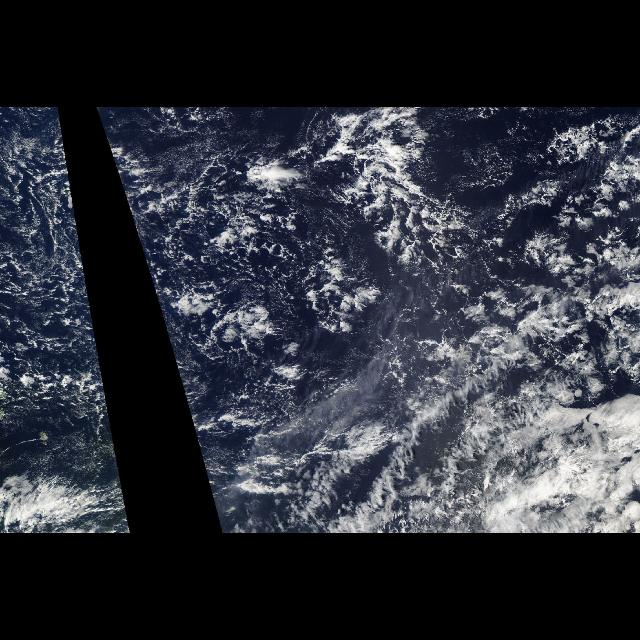Fish: (260, 107, 632, 517)
Gravel: (96, 108, 374, 420), (1, 108, 111, 420)
